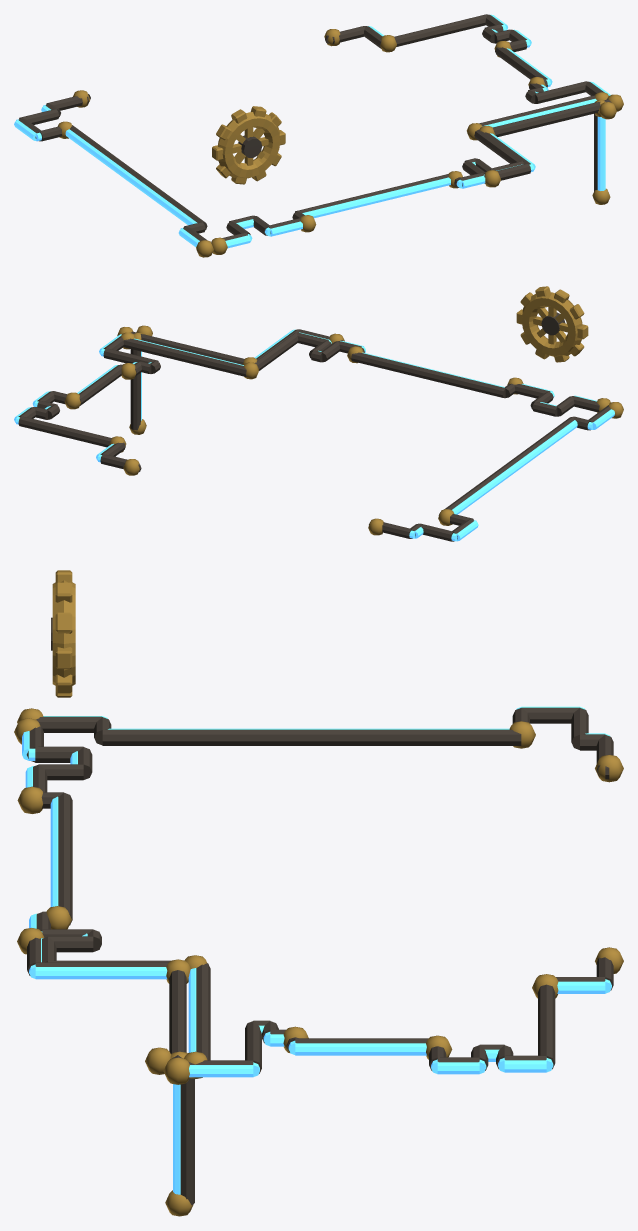
File: metallurgie-dress.glb
3 views of the same model, one above another, from view 1: azimuth 30°, elevation 25°; view 2: azimuth 150°, elevation 25°; view 3: azimuth 270°, elevation 25° (orthographic). The views are drawn at different scales.
Parts seen in each view (by area): view 1: metallurgie-dress; view 2: metallurgie-dress; view 3: metallurgie-dress.
Boxes of the visible parts, left/top/right/bottom form: metallurgie-dress: left=14, top=14, right=623, bottom=257; metallurgie-dress: left=14, top=286, right=623, bottom=541; metallurgie-dress: left=14, top=570, right=623, bottom=1216.
Bounding box in the file's own units: 2.62 × 1.13 × 1.84.
